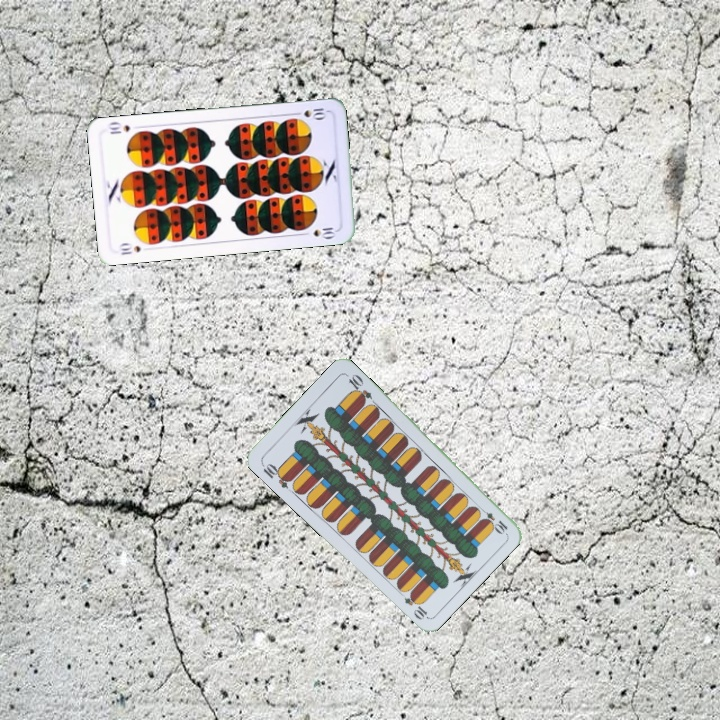E10: (475, 503, 510, 536), (258, 459, 294, 491)
S10: (289, 104, 329, 121), (115, 239, 143, 258)
